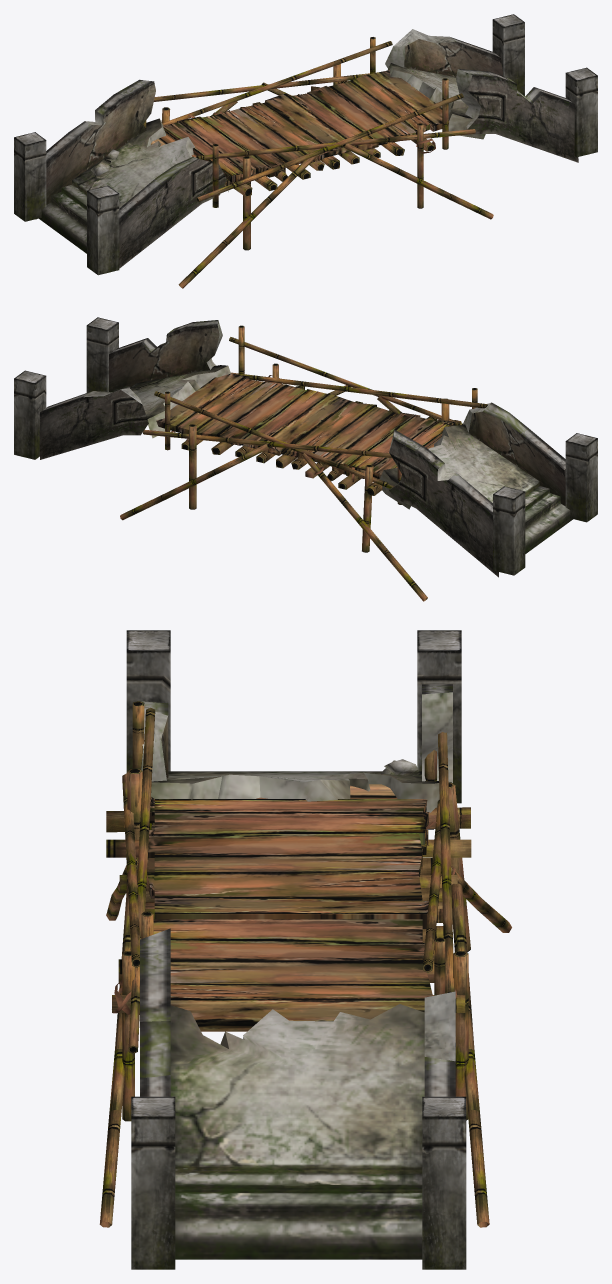
Rendered from STR_BridgeStoneC.FBX.
3 views of the same model, one above another, from view 1: azimuth 30°, elevation 25°; view 2: azimuth 150°, elevation 25°; view 3: azimuth 270°, elevation 25° (orthographic). The views are drawn at different scales.
Parts seen in each view (by area): view 1: STR_StoneBridgeC; view 2: STR_StoneBridgeC; view 3: STR_StoneBridgeC.
Part boxes in pixels (x1=…): STR_StoneBridgeC: x1=14, y1=14, x2=597, y2=288; STR_StoneBridgeC: x1=14, y1=317, x2=597, y2=601; STR_StoneBridgeC: x1=99, y1=630, x2=511, y2=1269.
Bounding box in the file's own units: 2057 × 568 × 736.
